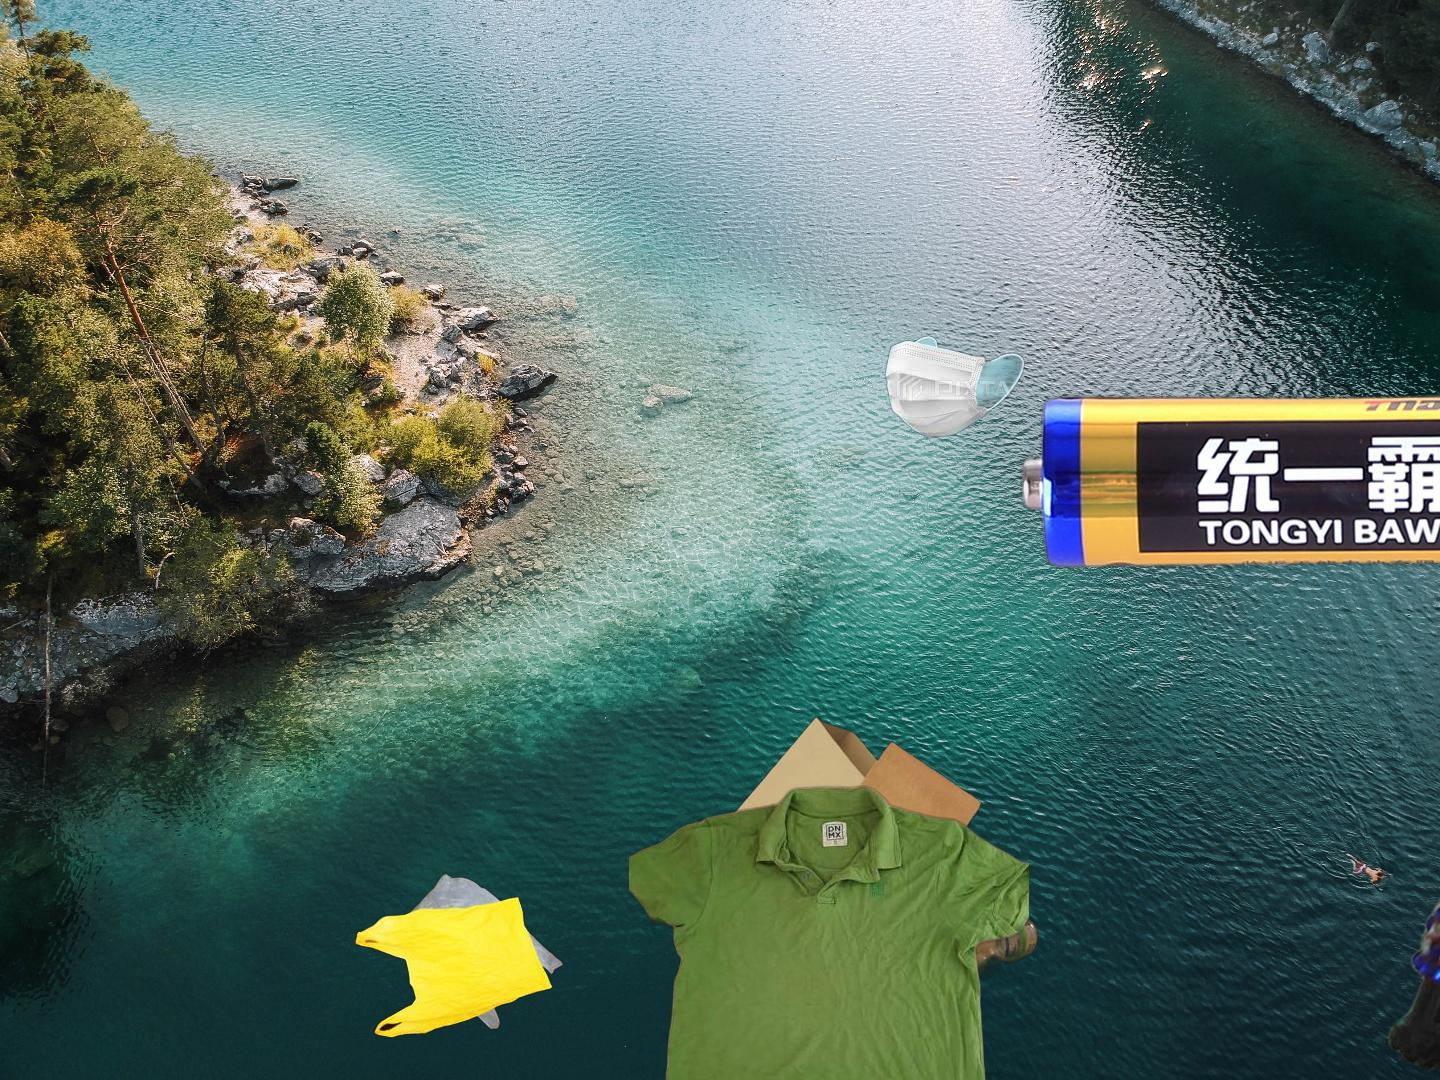battery: (1014, 386, 1440, 575)
clothes: (629, 782, 1029, 1080)
paper-bag: (726, 714, 983, 961)
penholder: (1380, 273, 1440, 1080)
plastic-bag: (352, 870, 566, 1041)
plastic-bottles: (730, 900, 1048, 1080)
trash: (883, 333, 1027, 440)
trashbox-cardboard: (738, 976, 855, 1017)
